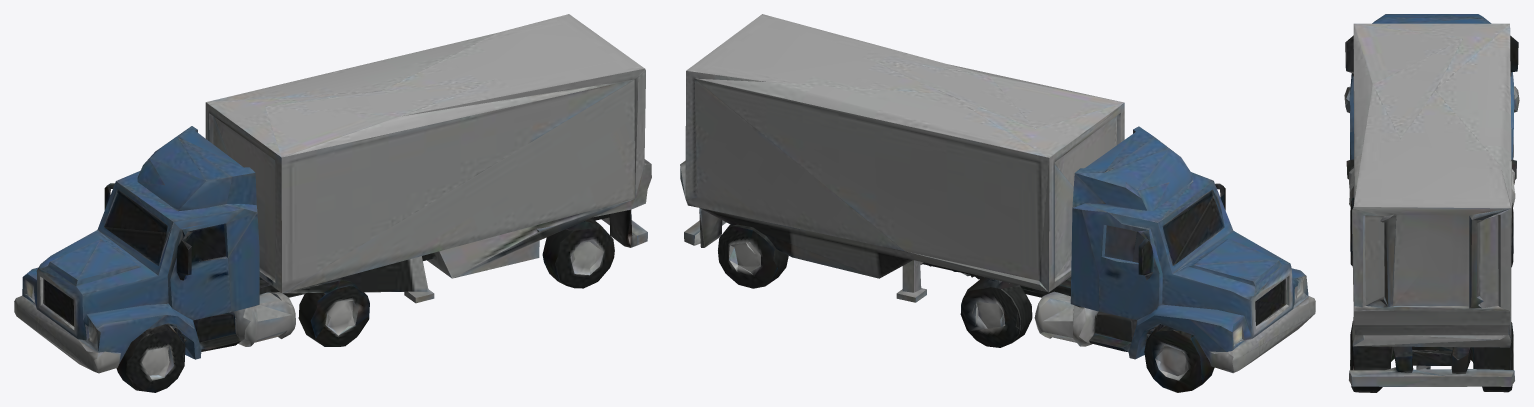
The model's file is truck.glb.
The picture shows the model from 3 angles, left to right: view 1: azimuth 30°, elevation 25°; view 2: azimuth 150°, elevation 25°; view 3: azimuth 270°, elevation 25°; orthographic projection. The views are drawn at different scales.
Size of the model in its own units: 1.9 by 0.6769 by 0.496.
Materials: 1 (1 with a texture image).
